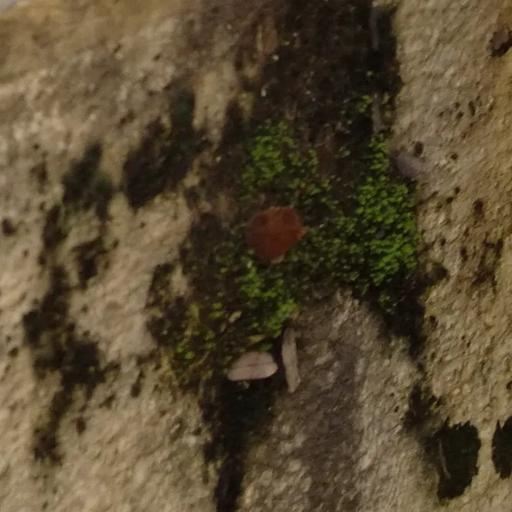algae: (109, 0, 503, 483)
